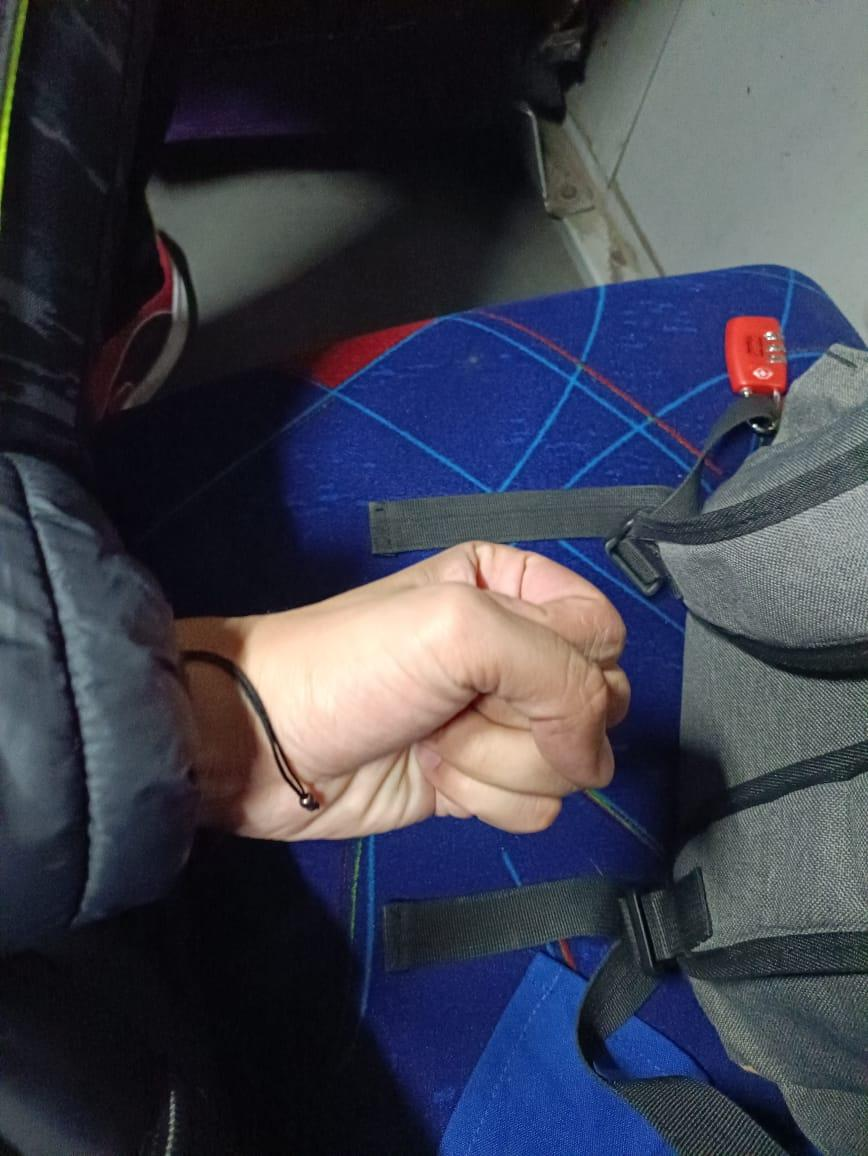Stone: (88, 497, 660, 880)
